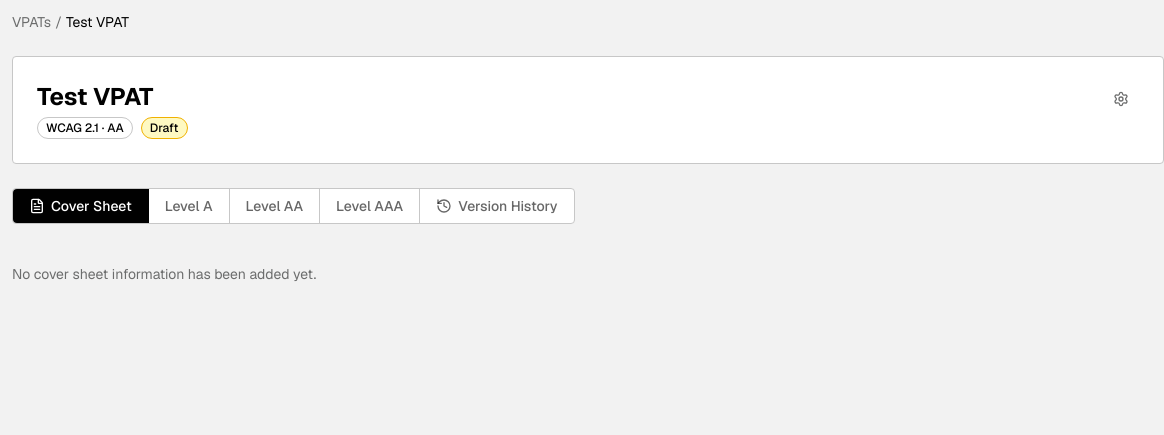
Test: VpatDetailPage (view) › shows Publish in settings menu even when draft and not reviewed
The image size is (1164, 435).
What coordinates should you click on to do the following:
click the button named "vpat settings"
I would click on:
 (1121, 99)
Its box is x1=1103 y1=81 x2=1139 y2=117.
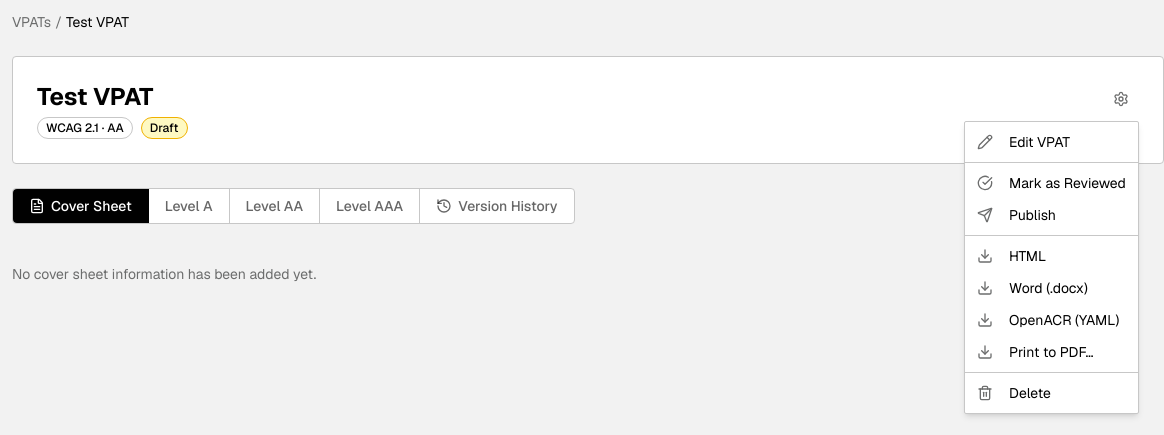
Now the menu item "Publish" is shown, box x1=977 y1=206 x2=1056 y2=224
